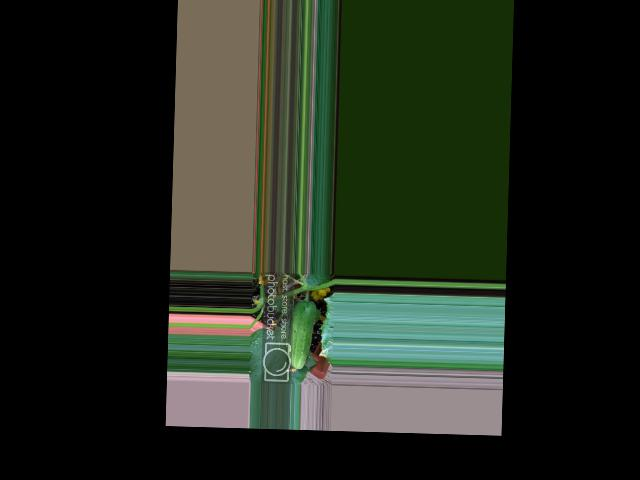cucumber: (286, 301, 316, 370)
